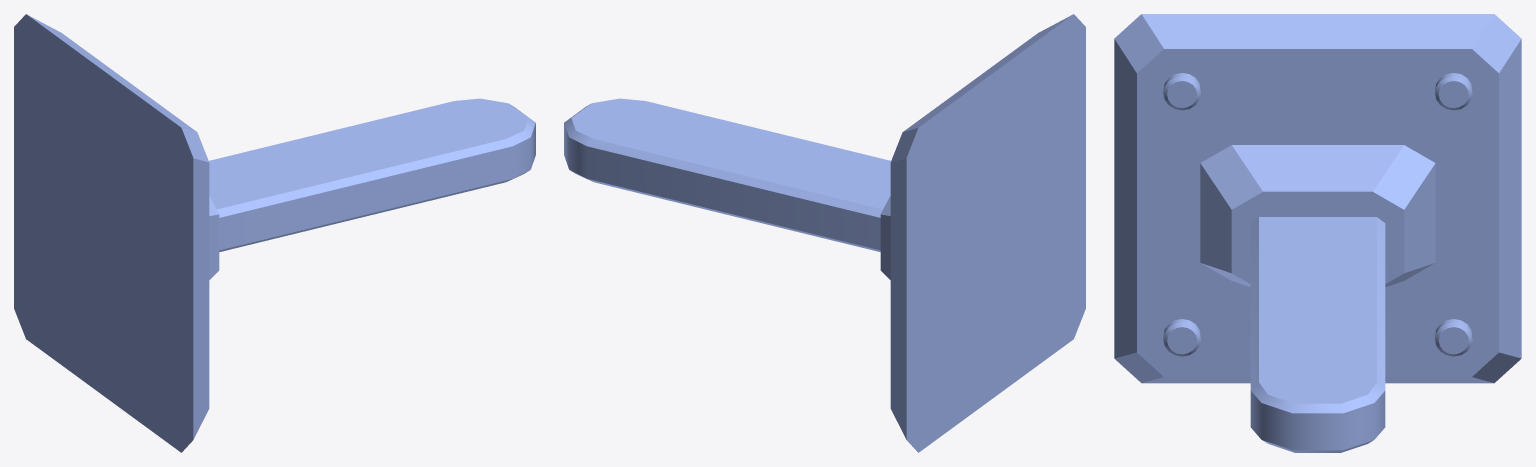
Rendered from SM_Spotlight_Base.FBX.
3 renders of one model, left to right at view 1: azimuth 30°, elevation 25°; view 2: azimuth 150°, elevation 25°; view 3: azimuth 270°, elevation 25°, orthographic. The views are drawn at different scales.
Visible parts, largest first — view 1: SM_Spotlight_Base; view 2: SM_Spotlight_Base; view 3: SM_Spotlight_Base.
Boxes of the visible parts, <box> form: SM_Spotlight_Base: <box>14,14,535,452</box>; SM_Spotlight_Base: <box>564,14,1085,452</box>; SM_Spotlight_Base: <box>1114,14,1521,452</box>.
Size of the model in its own units: 40.64 by 30 by 30.
